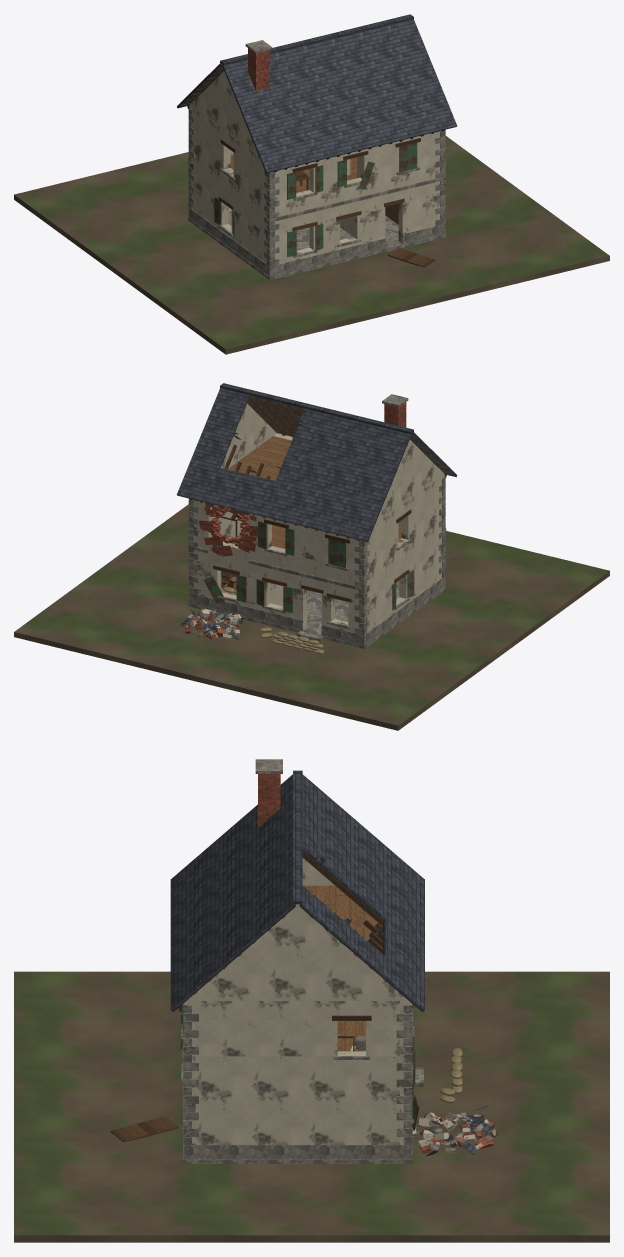
File: normandy_house.obj
3 views of the same model, one above another, from view 1: azimuth 30°, elevation 25°; view 2: azimuth 150°, elevation 25°; view 3: azimuth 270°, elevation 25° (orthographic). The views are drawn at different scales.
Parts seen in each view (by area): view 1: ground, slate, plaster, stone, shutter_green, wood_dark, brick, wood_floor; view 2: ground, slate, plaster, stone, wood_dark, brick, shutter_green, wood_floor, burlap; view 3: ground, plaster, slate, stone, wood_dark, wood_floor, brick, burlap.
Part boxes in pixels (bbox=[...]): ground: bbox=[14, 136, 609, 354]; slate: bbox=[177, 14, 457, 173]; plaster: bbox=[189, 71, 440, 264]; stone: bbox=[188, 40, 446, 280]; shutter_green: bbox=[214, 142, 417, 256]; wood_dark: bbox=[180, 67, 444, 267]; brick: bbox=[248, 48, 269, 91]; wood_floor: bbox=[230, 154, 398, 224]; ground: bbox=[14, 504, 609, 730]; slate: bbox=[176, 383, 457, 639]; plaster: bbox=[186, 403, 444, 638]; stone: bbox=[186, 394, 446, 648]; wood_dark: bbox=[189, 396, 454, 602]; brick: bbox=[184, 402, 406, 639]; shutter_green: bbox=[203, 521, 414, 612]; wood_floor: bbox=[221, 436, 401, 589]; burlap: bbox=[221, 587, 324, 654]; ground: bbox=[14, 971, 609, 1242]; plaster: bbox=[184, 858, 488, 1148]; slate: bbox=[170, 770, 491, 1156]; stone: bbox=[181, 759, 496, 1163]; wood_dark: bbox=[110, 851, 416, 1142]; wood_floor: bbox=[303, 885, 381, 1051]; brick: bbox=[258, 774, 498, 1153]; burlap: bbox=[439, 1048, 462, 1103].
Bounding box in the file's own units: 22 × 11.62 × 21.
Materials: 9 (9 with a texture image).
